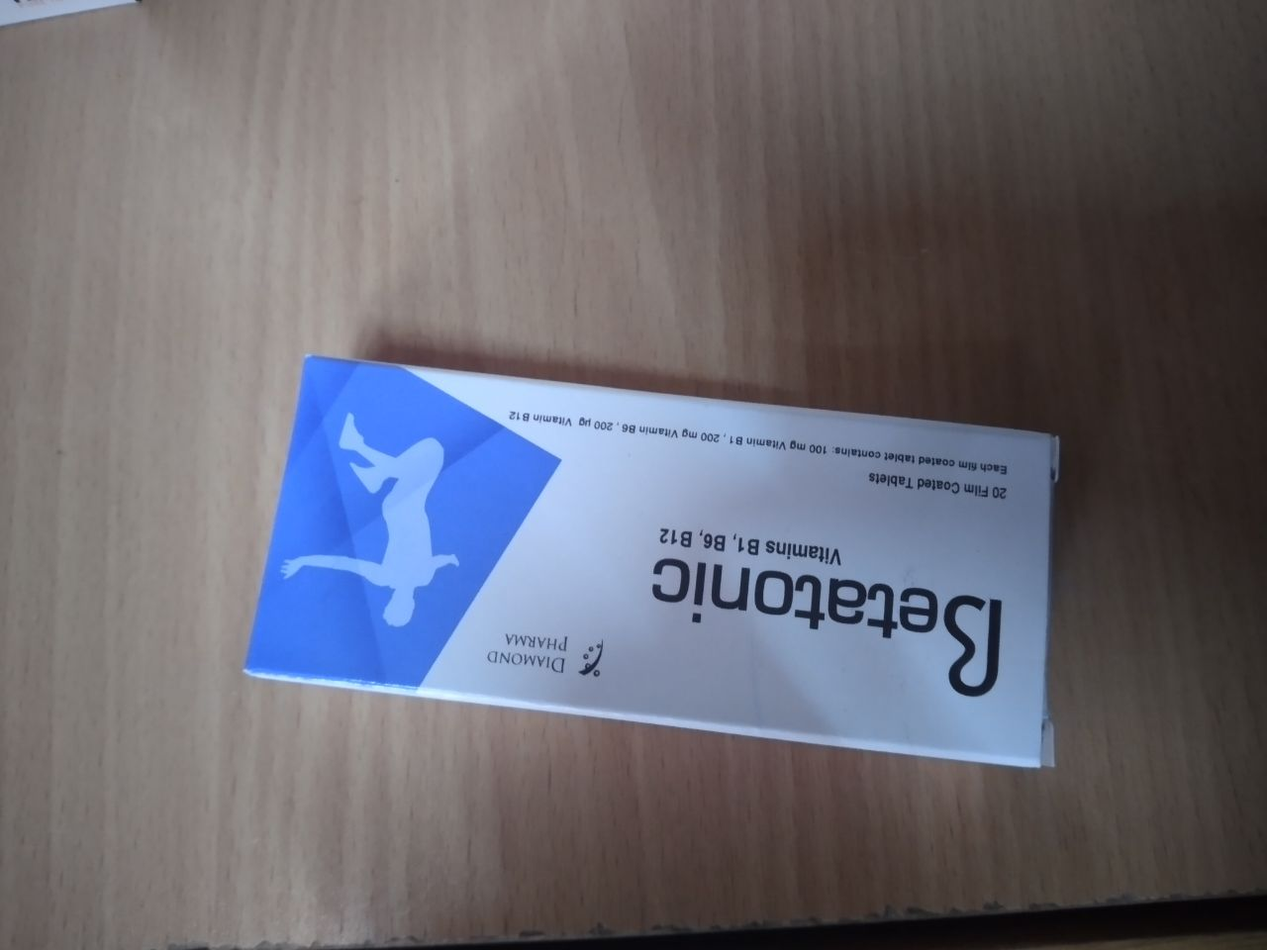Medicine: (252, 356, 1064, 782)
